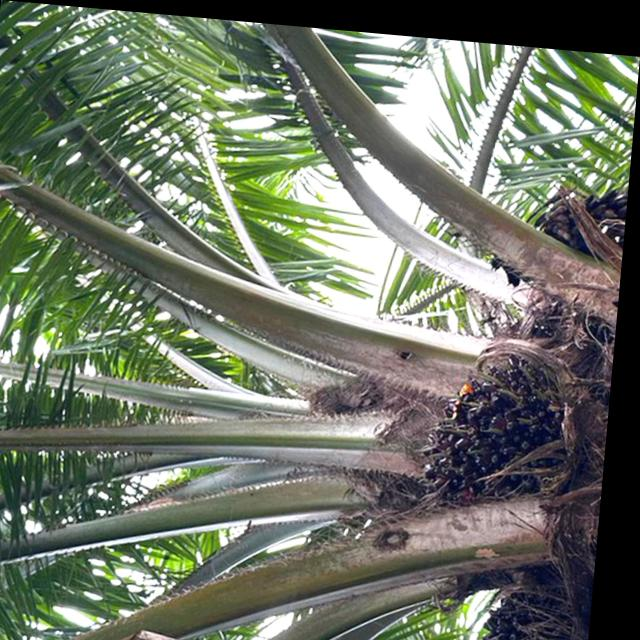almost: (419, 331, 581, 510), (482, 554, 595, 640)
